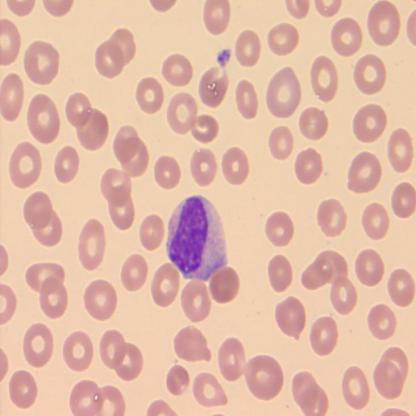Metamyelocyte: (164, 192, 230, 282)
